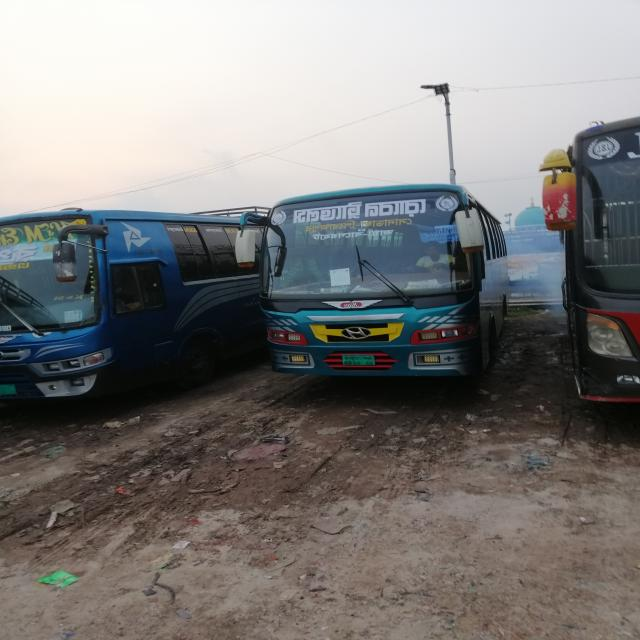Bus: (235, 183, 513, 400), (1, 209, 231, 415)
